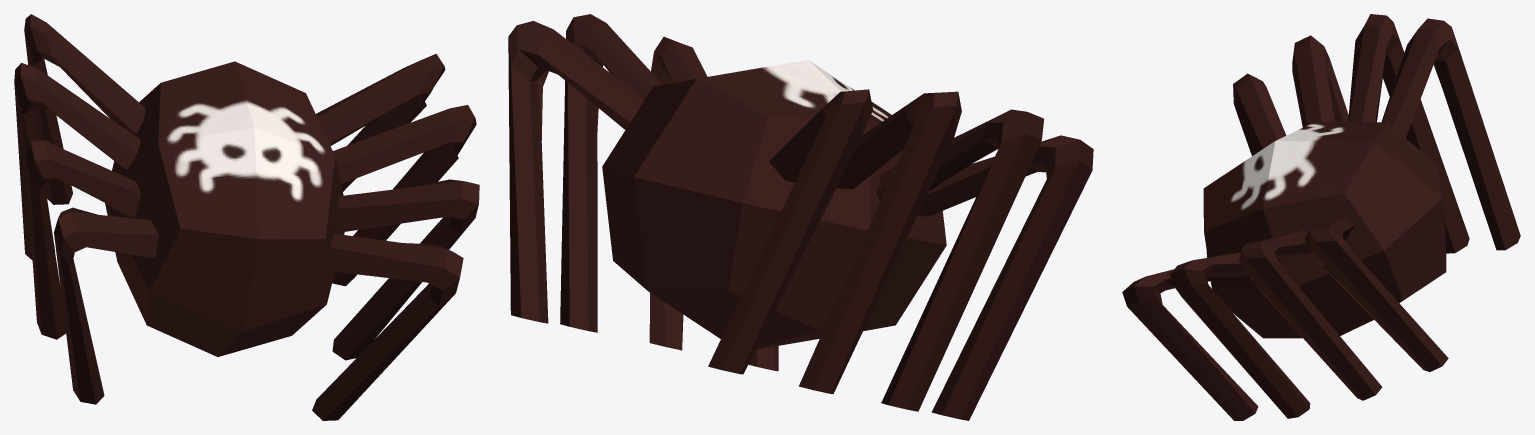
File: Spider_Color.fbx
The picture shows the model from 3 angles, left to right: view 1: azimuth 30°, elevation 25°; view 2: azimuth 150°, elevation 25°; view 3: azimuth 270°, elevation 25°; orthographic projection. The views are drawn at different scales.
Visible parts, largest first — view 1: Spider_Color; view 2: Spider_Color; view 3: Spider_Color.
Part boxes in pixels (<box>): Spider_Color: <box>14,14,479,420</box>; Spider_Color: <box>508,14,1093,420</box>; Spider_Color: <box>1122,14,1520,420</box>.
Bounding box in the file's own units: 17.18 × 15.59 × 13.81.
